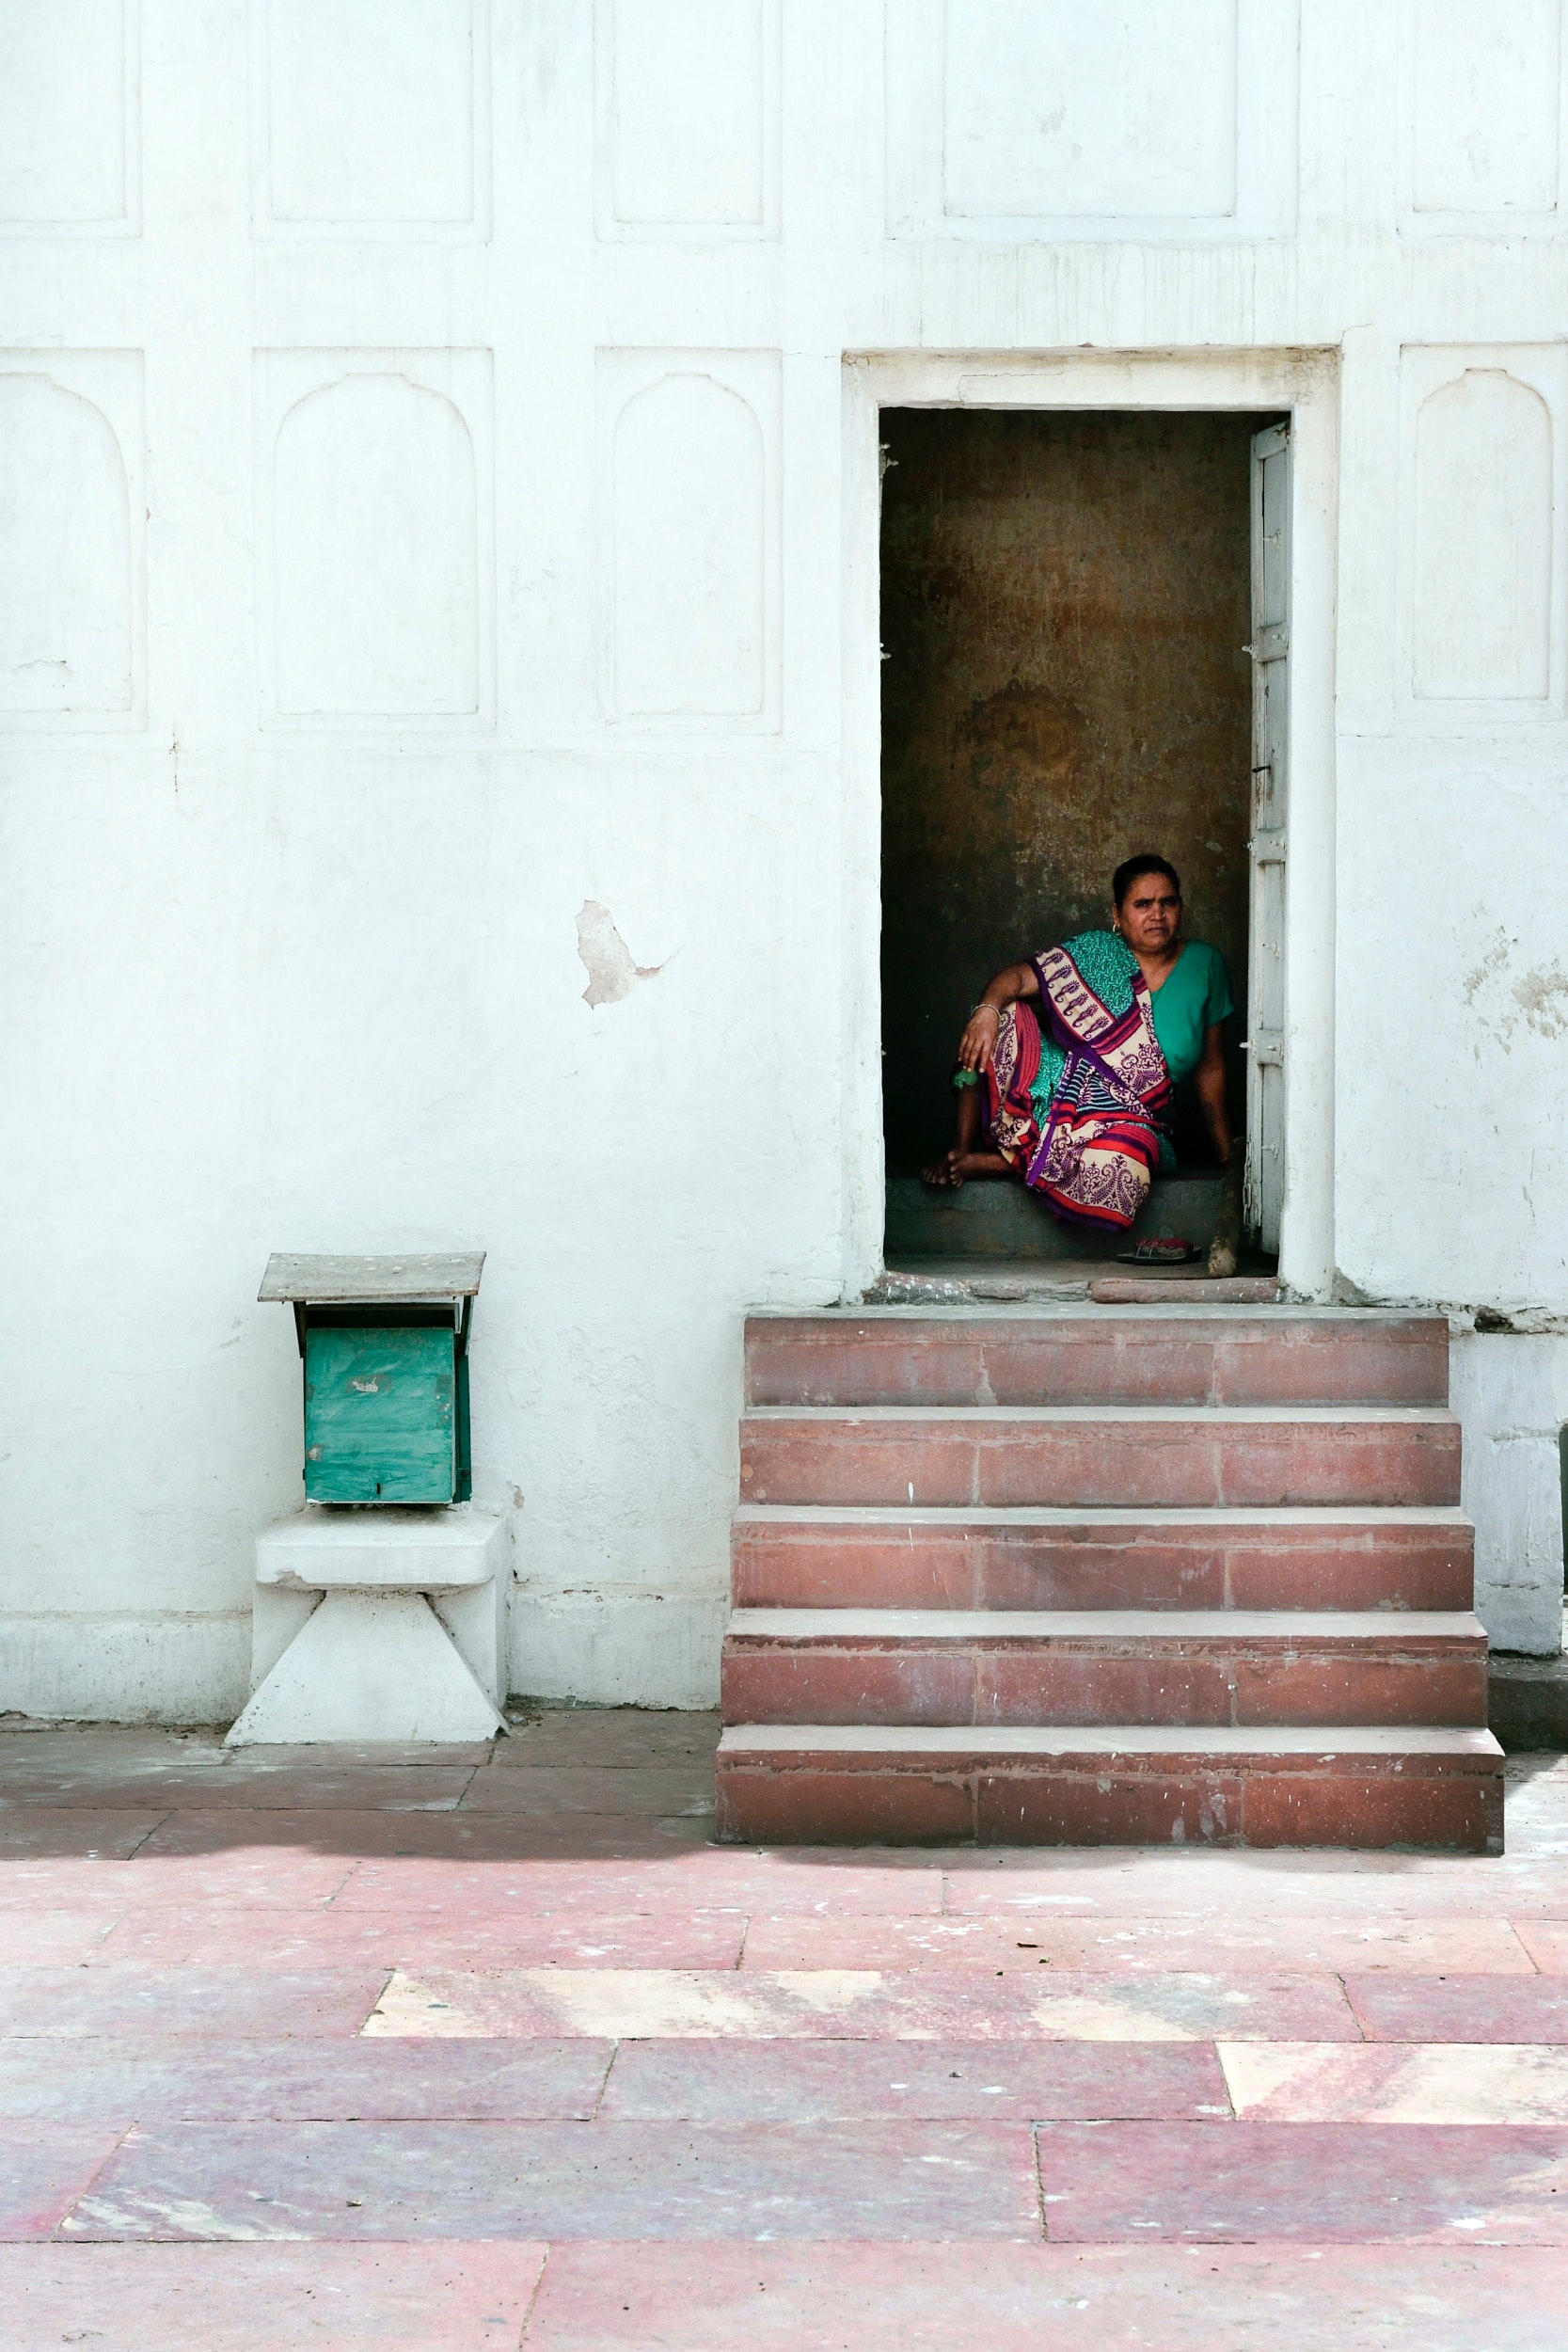upstairs: (759, 1302, 1500, 1899)
